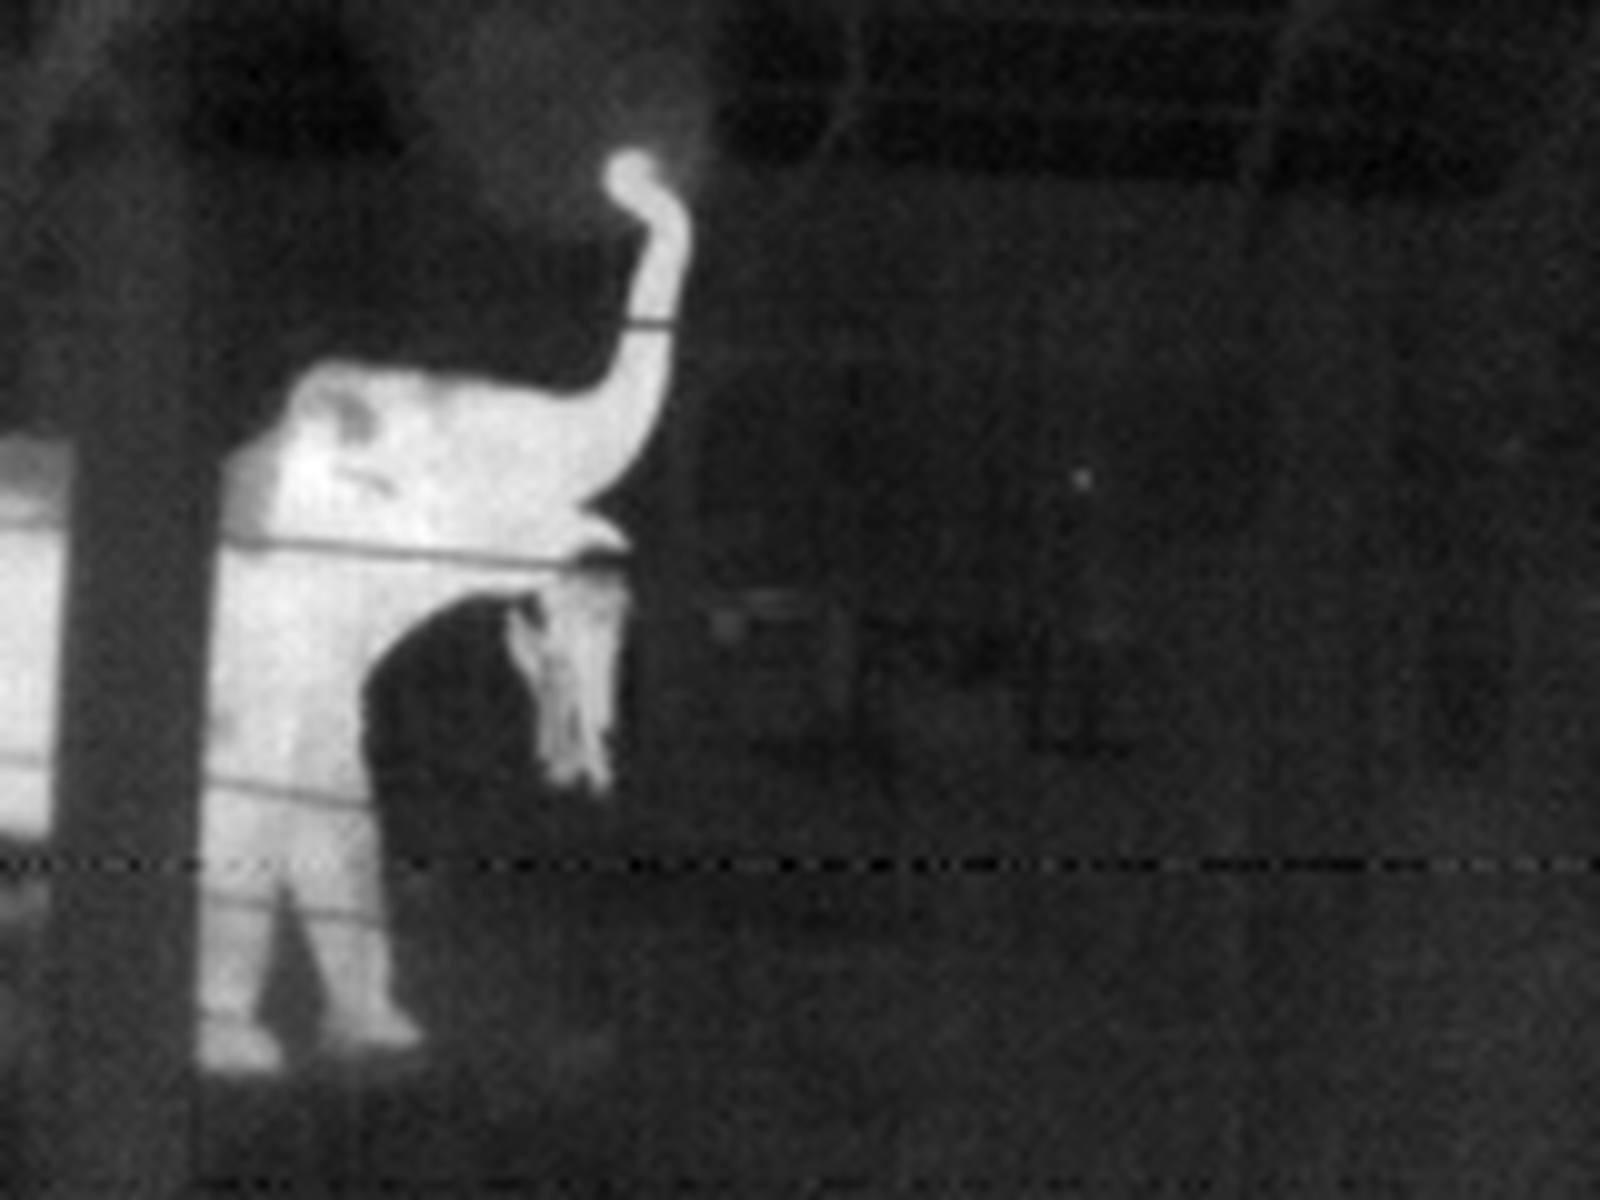elephant: (14, 147, 737, 1105)
